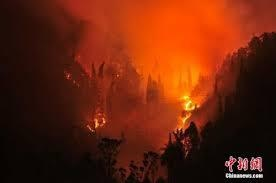fire: (174, 91, 199, 128), (85, 106, 110, 131)
